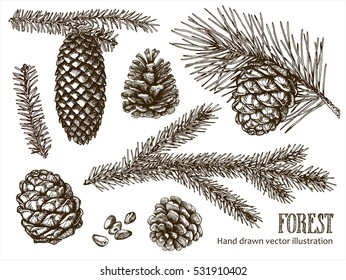Pc: (52, 31, 107, 145), (13, 168, 83, 244), (116, 42, 181, 117), (237, 61, 294, 137), (152, 197, 201, 251)
